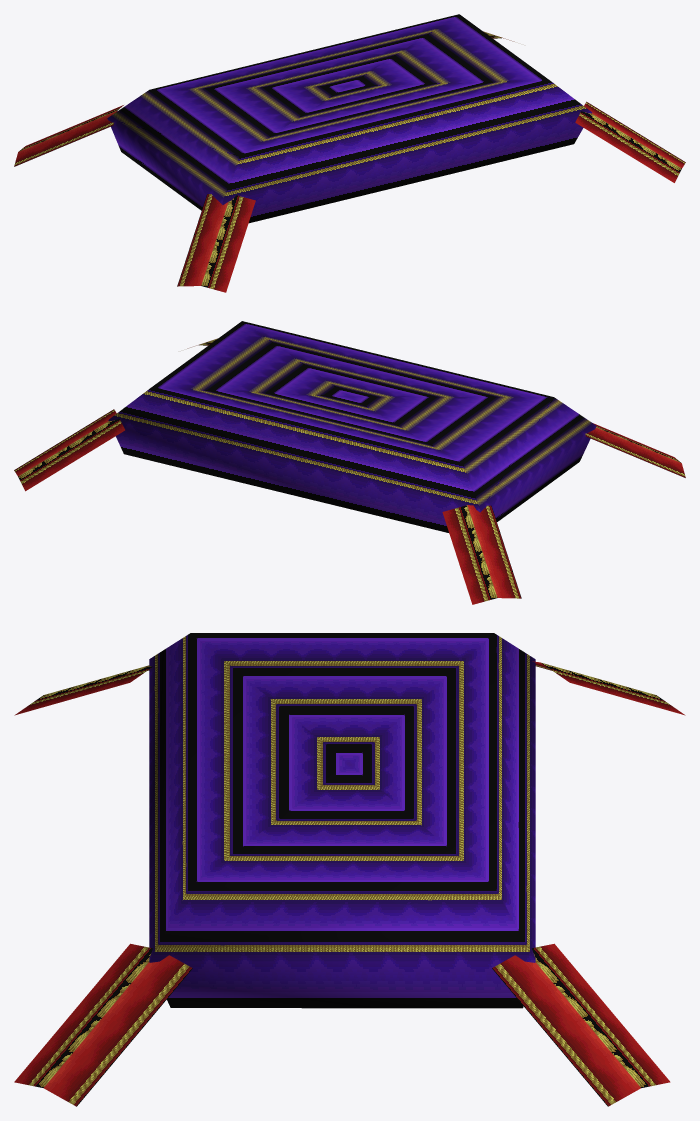
The model's file is cake_sara.gltf.
3 views of the same model, one above another, from view 1: azimuth 30°, elevation 25°; view 2: azimuth 150°, elevation 25°; view 3: azimuth 270°, elevation 25° (orthographic). The views are drawn at different scales.
Visible parts, largest first — view 1: cake_sara; view 2: cake_sara; view 3: cake_sara.
Part boxes in pixels (x1,y1,x2,y2): cake_sara: (14, 14, 685, 292); cake_sara: (14, 321, 685, 604); cake_sara: (14, 633, 685, 1106).
Size of the model in its own units: 0.8389 by 0.1289 by 0.5728.
Materials: 2 (2 with a texture image).
